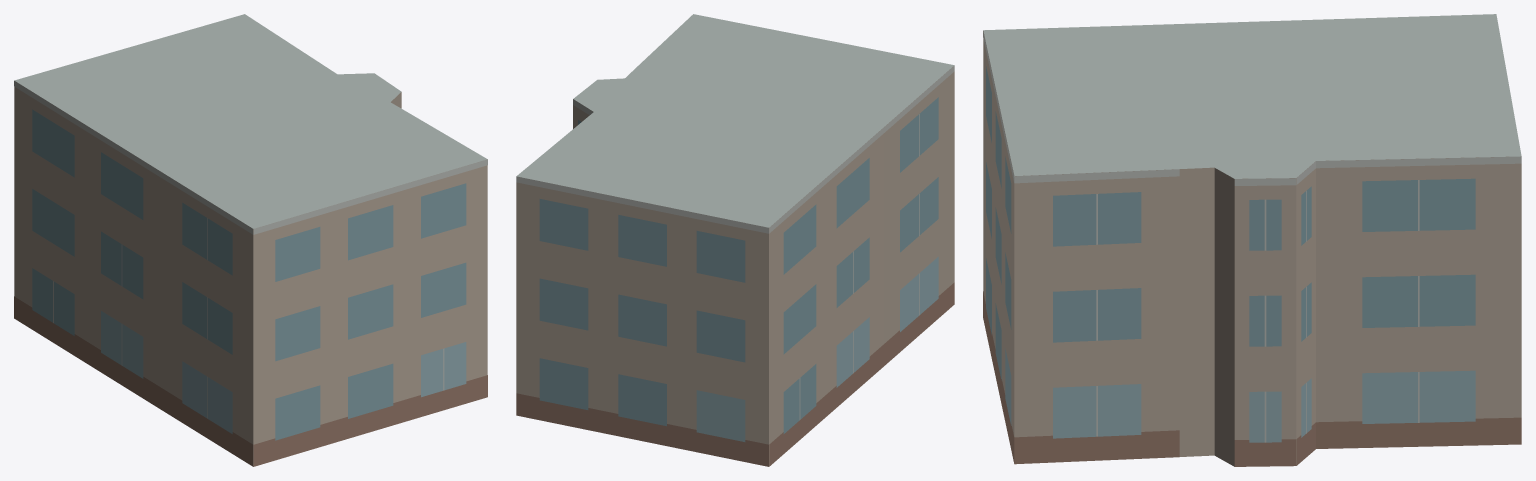
The model's file is survey-upis-32906561.glb.
3 views of the same model, side by side, from view 1: azimuth 30°, elevation 25°; view 2: azimuth 150°, elevation 25°; view 3: azimuth 270°, elevation 25° (orthographic). The views are drawn at different scales.
Parts seen in each view (by area): view 1: survey-upis-32906561.tmp; view 2: survey-upis-32906561.tmp; view 3: survey-upis-32906561.tmp.
Boxes of the visible parts, x1,y1,x2,y2 form: survey-upis-32906561.tmp: (14,14,487,466); survey-upis-32906561.tmp: (516,14,954,466); survey-upis-32906561.tmp: (983,14,1521,466).
Size of the model in its own units: 11.92 by 9.7 by 16.45.
